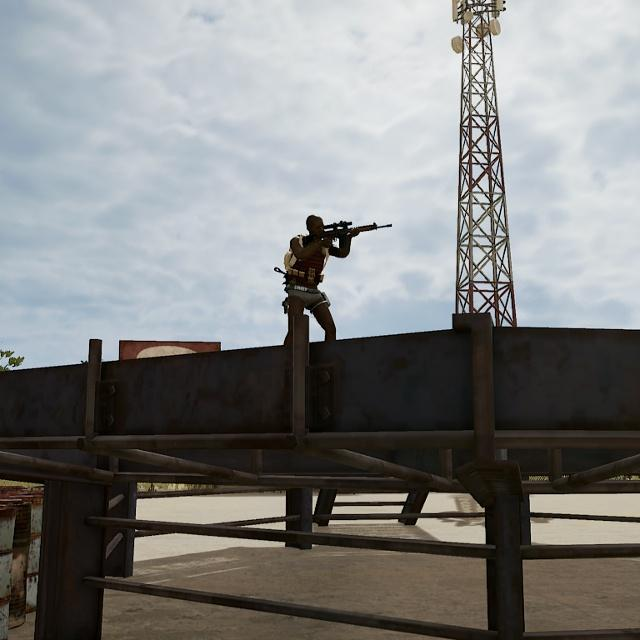head: (303, 209, 332, 242)
people: (277, 208, 352, 347)
